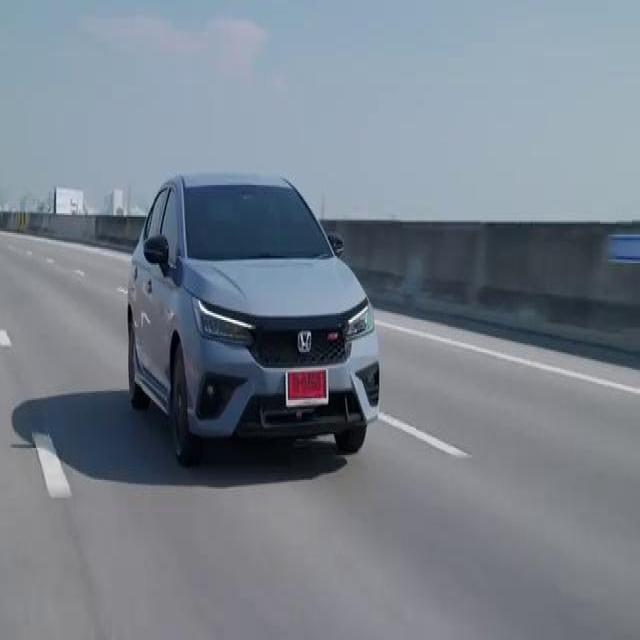Hatchback: (127, 174, 379, 464)
